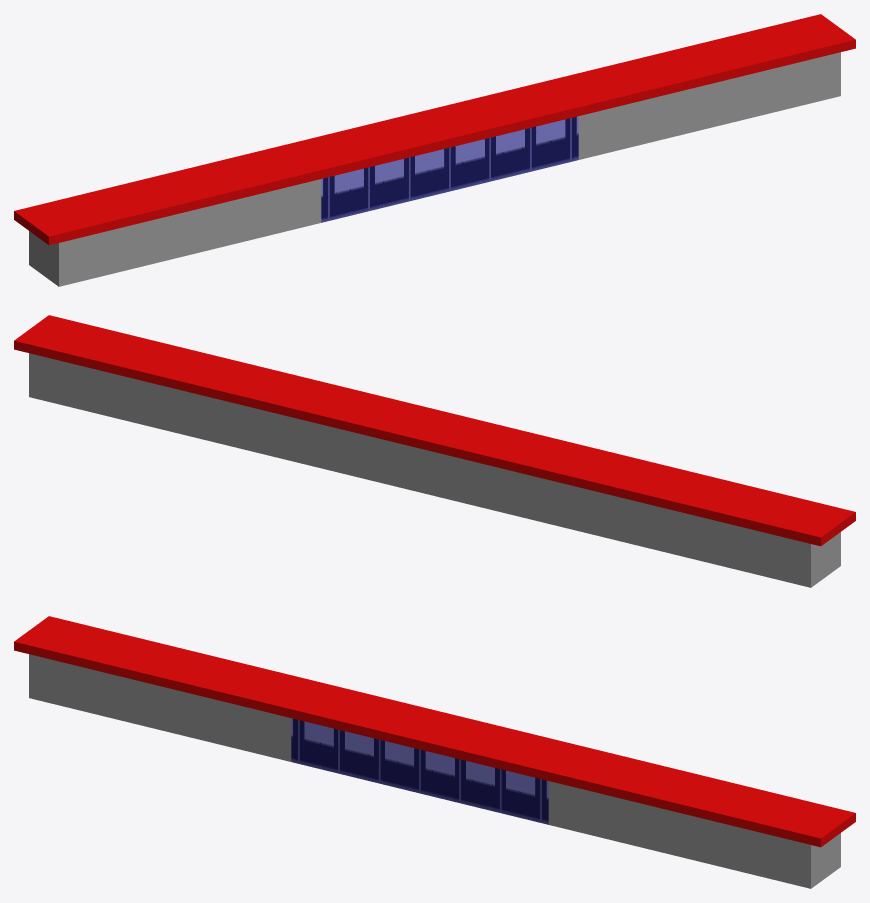
File: Hardcore_Parkour_Platform2.fbx
3 views of the same model, one above another, from view 1: azimuth 30°, elevation 25°; view 2: azimuth 150°, elevation 25°; view 3: azimuth 330°, elevation 25° (orthographic).
Visible parts, largest first — view 1: polySurface5; view 2: polySurface5; view 3: polySurface5.
Boxes of the visible parts, x1,y1,x2,y2 form: polySurface5: [14, 14, 855, 286]; polySurface5: [14, 315, 855, 587]; polySurface5: [14, 616, 855, 888].
Bounding box in the file's own units: 4215 × 275 × 317.
